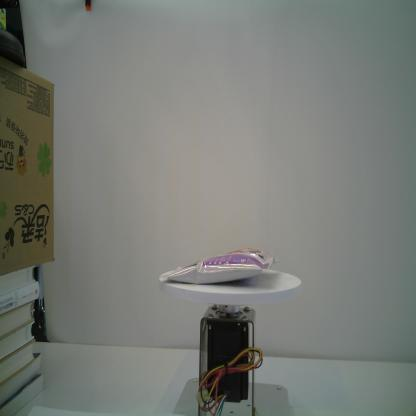Instant Drink: (158, 247, 280, 285)
